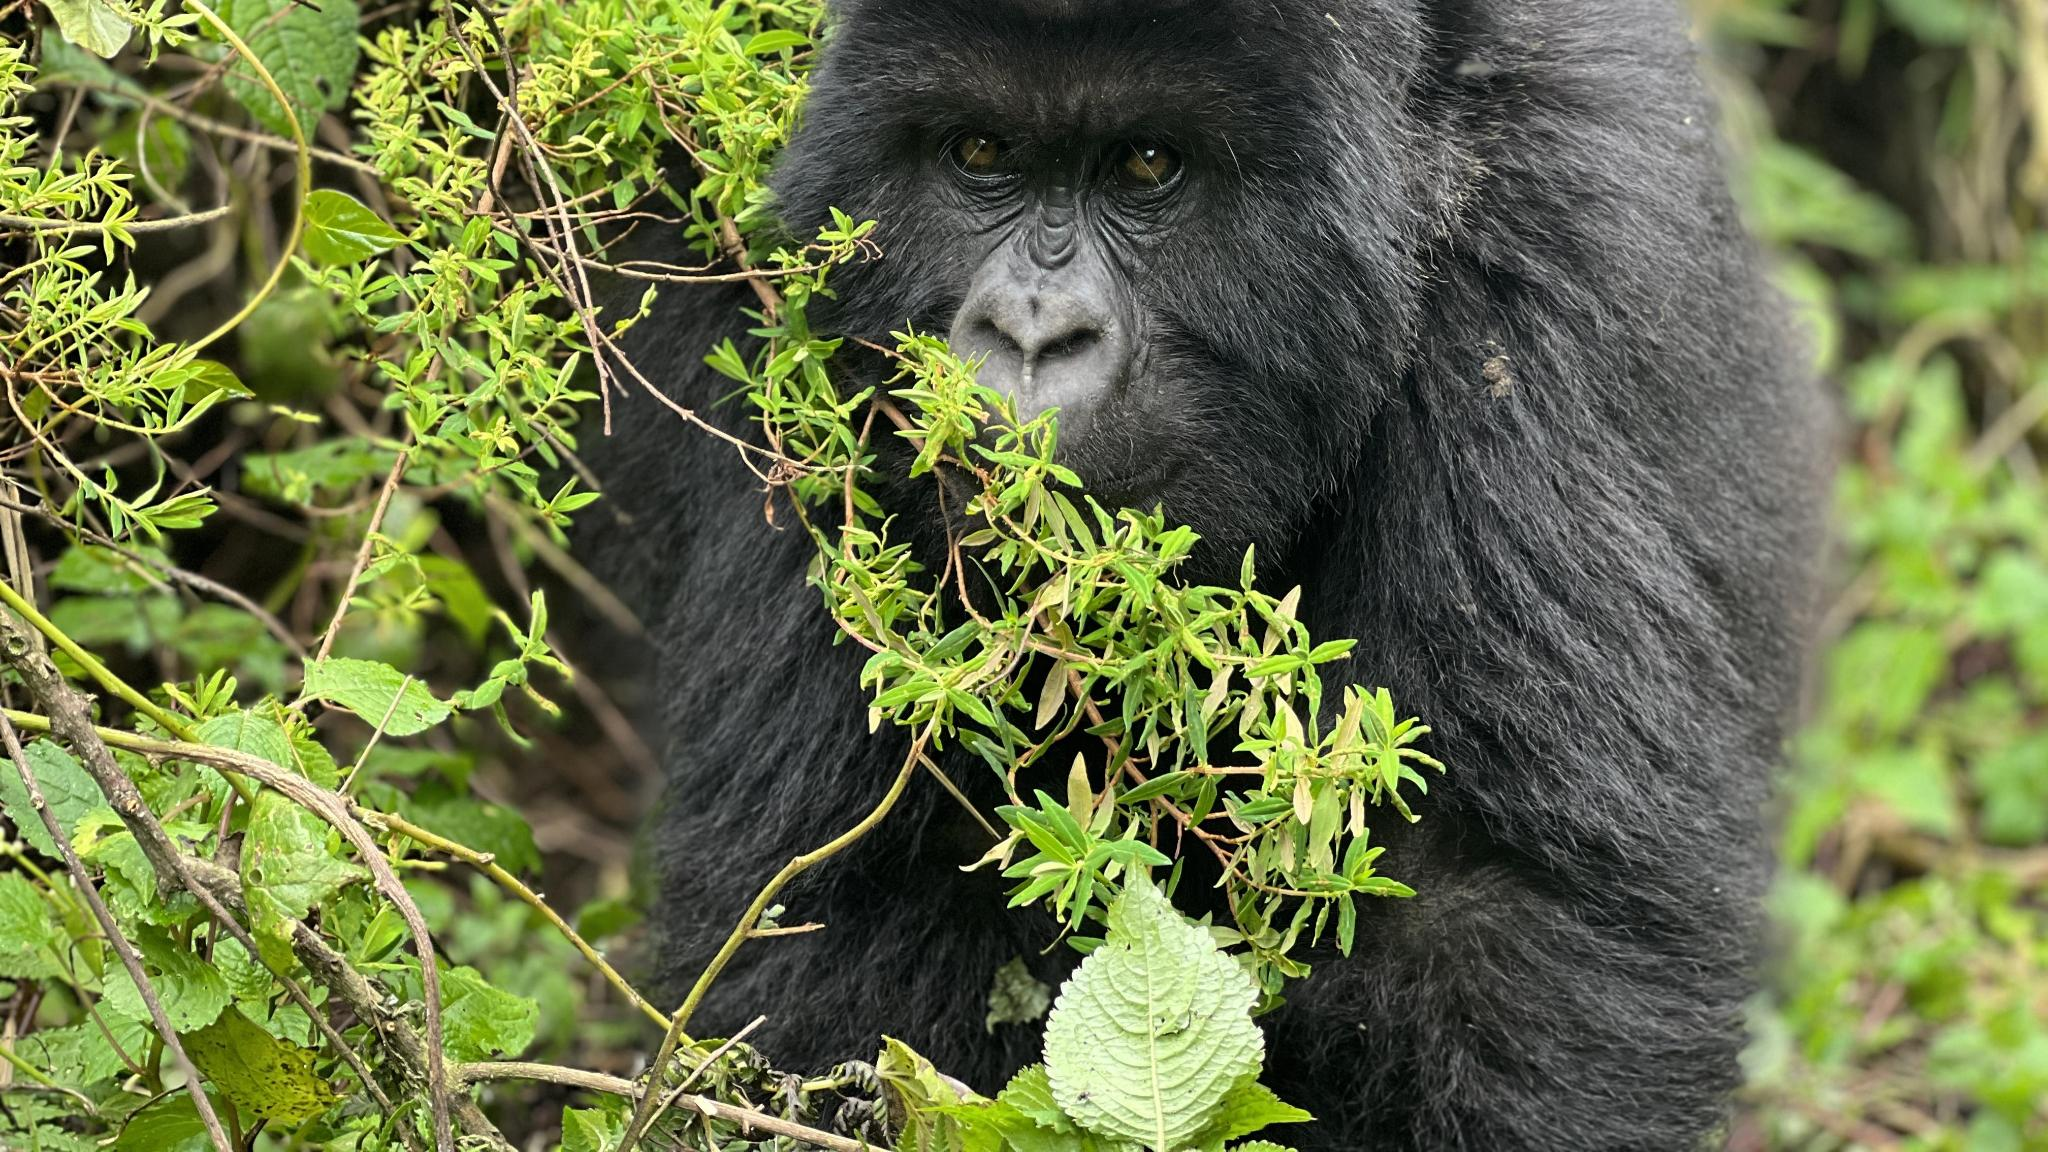goriile_montagne: (584, 3, 1829, 1152)
